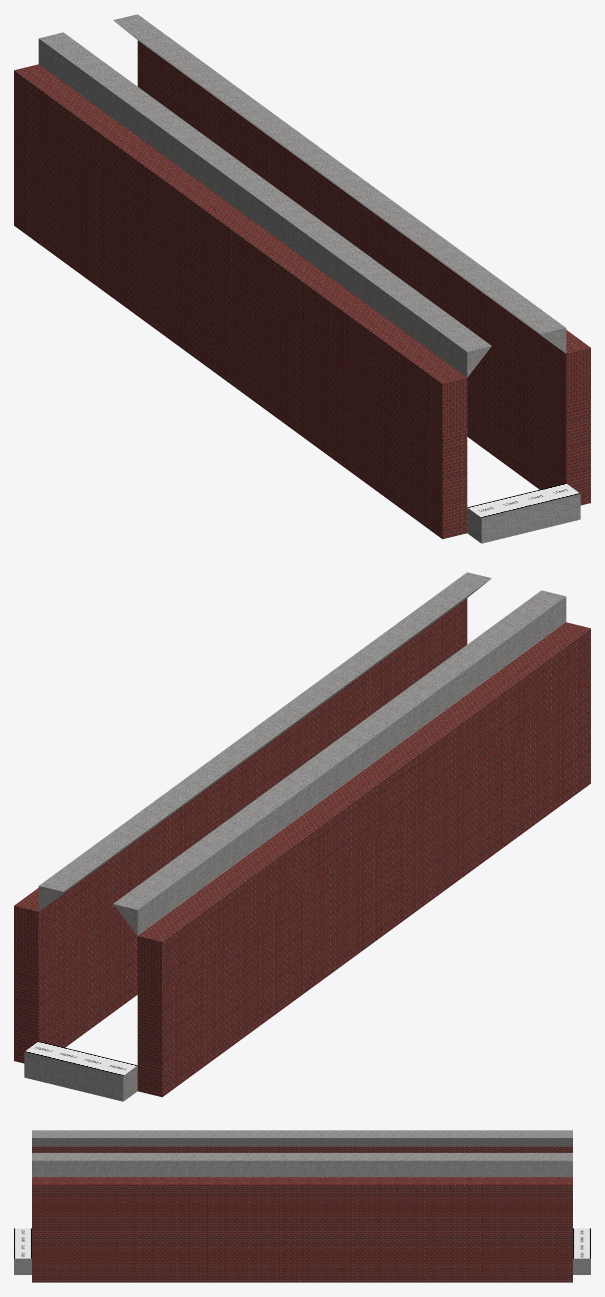
File: wall_jump_challenge_1.gltf
3 renders of one model, top to bottom at view 1: azimuth 30°, elevation 25°; view 2: azimuth 150°, elevation 25°; view 3: azimuth 270°, elevation 25°, orthographic. The views are drawn at different scales.
Visible parts, largest first — view 1: map; view 2: map; view 3: map.
Boxes of the visible parts, left/top/right/bottom form: map: left=14, top=14, right=590, bottom=543; map: left=14, top=572, right=590, bottom=1101; map: left=14, top=1130, right=590, bottom=1282.
Size of the model in its own units: 12 by 14 by 64.
4 materials, 4 textured.
